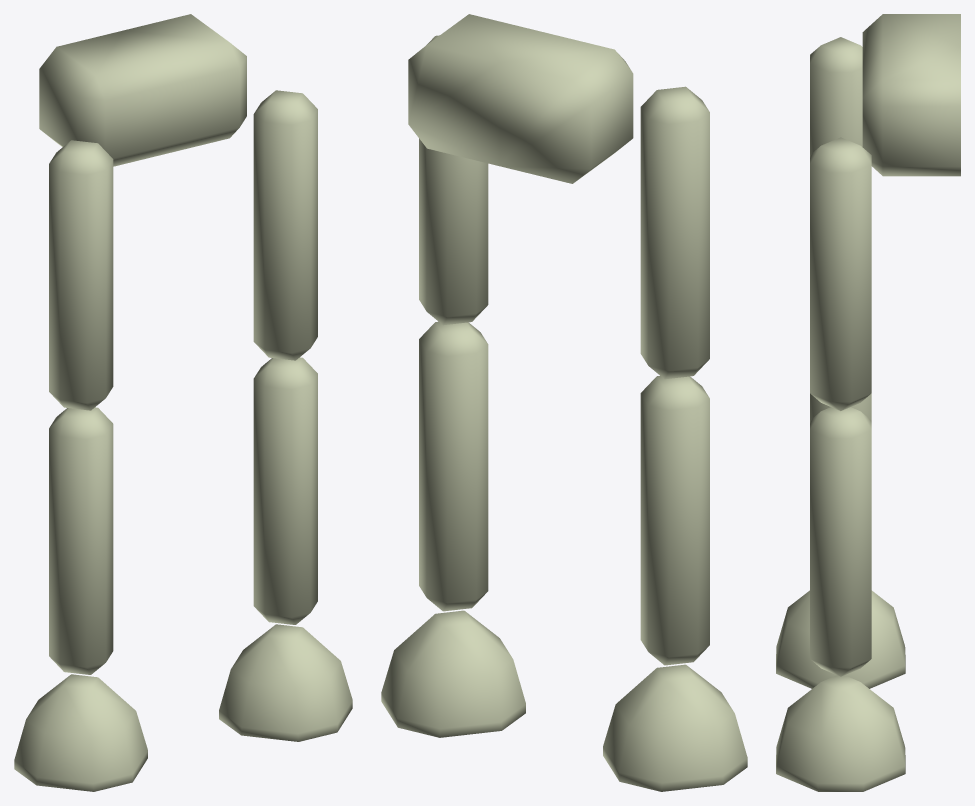
File: test_quad.obj
The picture shows the model from 3 angles, left to right: view 1: azimuth 30°, elevation 25°; view 2: azimuth 150°, elevation 25°; view 3: azimuth 270°, elevation 25°; orthographic projection. The views are drawn at different scales.
Visible parts, largest first — view 1: Cube1_sep12, Cube1_sep13, Cube1_sep9, Cube1_sep10, Cube1, Cube1_sep11, Cube1_sep8; view 2: Cube1_sep12, Cube1_sep9, Cube1, Cube1_sep10, Cube1_sep8, Cube1_sep11, Cube1_sep13; view 3: Cube1_sep13, Cube1_sep10, Cube1_sep12, Cube1_sep11, Cube1_sep8, Cube1_sep9, Cube1.
Part boxes in pixels (x1=…): Cube1_sep12: x1=39, y1=14, x2=246, y2=166; Cube1_sep13: x1=253, y1=90, x2=317, y2=360; Cube1_sep9: x1=49, y1=140, x2=113, y2=410; Cube1_sep10: x1=253, y1=357, x2=317, y2=624; Cube1: x1=49, y1=407, x2=113, y2=674; Cube1_sep11: x1=219, y1=624, x2=352, y2=741; Cube1_sep8: x1=14, y1=674, x2=147, y2=791; Cube1_sep12: x1=408, y1=14, x2=633, y2=183; Cube1_sep9: x1=640, y1=86, x2=709, y2=379; Cube1: x1=640, y1=376, x2=709, y2=665; Cube1_sep10: x1=419, y1=321, x2=488, y2=611; Cube1_sep8: x1=603, y1=664, x2=747, y2=791; Cube1_sep11: x1=381, y1=610, x2=525, y2=737; Cube1_sep13: x1=419, y1=35, x2=488, y2=325; Cube1_sep13: x1=810, y1=137, x2=871, y2=410; Cube1_sep10: x1=810, y1=407, x2=871, y2=676; Cube1_sep12: x1=862, y1=14, x2=960, y2=176; Cube1_sep11: x1=776, y1=675, x2=905, y2=791; Cube1_sep8: x1=776, y1=590, x2=905, y2=688; Cube1_sep9: x1=810, y1=37, x2=862, y2=154; Cube1: x1=810, y1=393, x2=871, y2=420.
Bounding box in the file's own units: 3.74 × 7.51 × 1.88.
